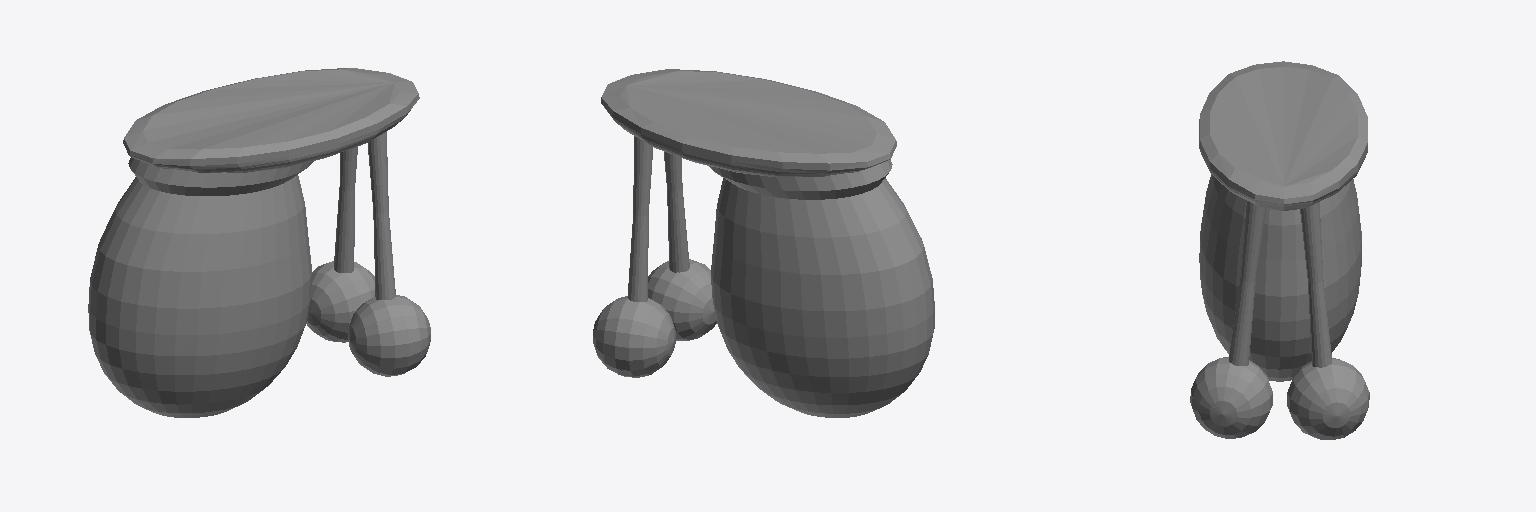
The model's file is Gary.obj.
The picture shows the model from 3 angles: view 1: azimuth 30°, elevation 25°; view 2: azimuth 150°, elevation 25°; view 3: azimuth 270°, elevation 25°; orthographic projection.
Parts seen in each view (by area): view 1: Cylinder001; view 2: Cylinder001; view 3: Cylinder001.
Part boxes in pixels (x1,y1,x2,y2): Cylinder001: (88, 68, 430, 417); Cylinder001: (593, 69, 934, 417); Cylinder001: (1190, 61, 1369, 439).
Size of the model in its own units: 8.22 by 6.97 by 4.